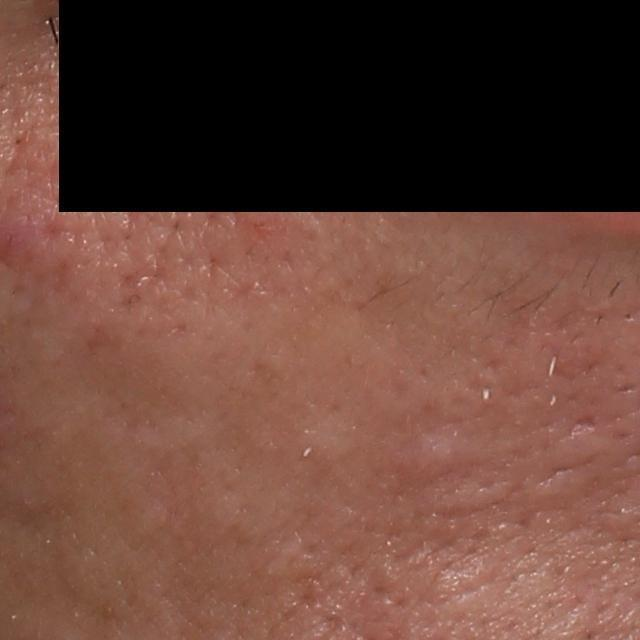atrophic_scar: (565, 408, 597, 440)
hypertrophic_scar: (400, 423, 472, 475), (293, 417, 361, 472)
